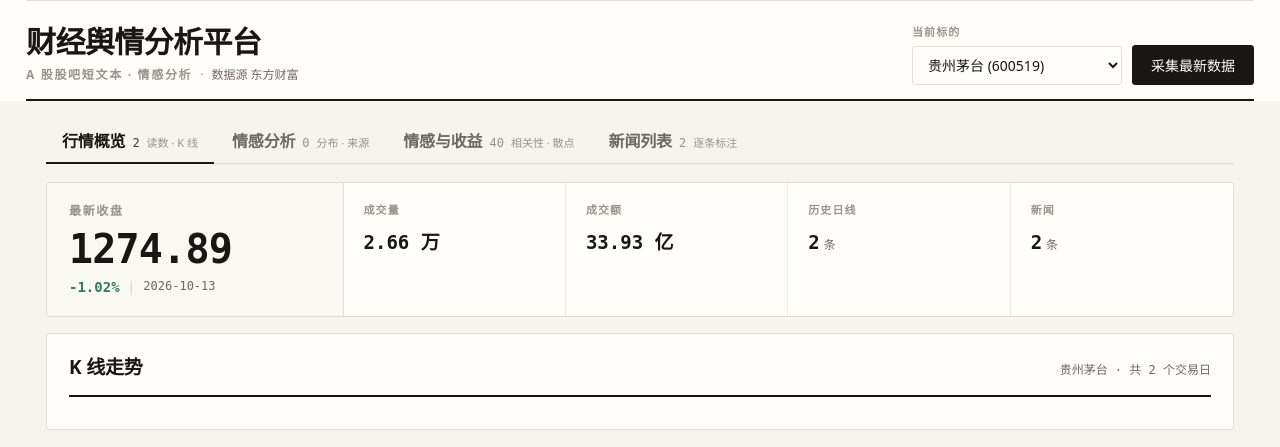
Test: 情感分析面板 › 情感接口失败时不谎称「还没有标注」
Click the tab "情感分析 0 分布 · 来源": (301, 141) [216,119,385,163]
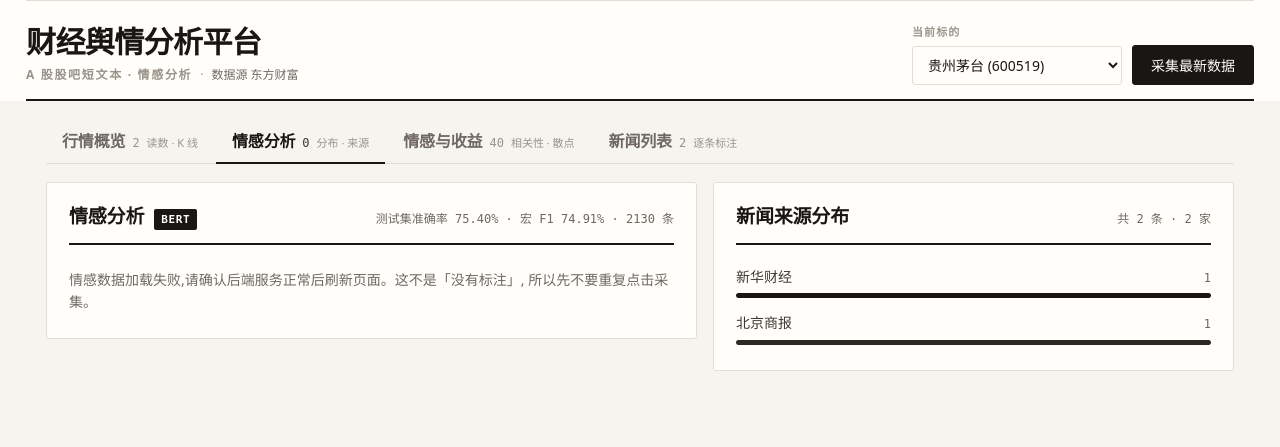
Expected: the text "情感数据加载失败" is shown, [69,270,668,311]
